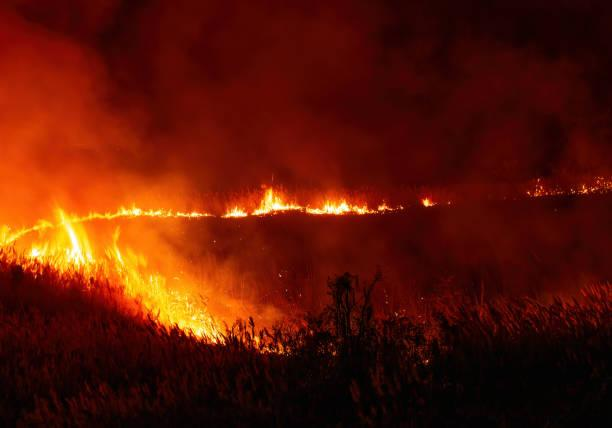Fire: (14, 192, 548, 348)
